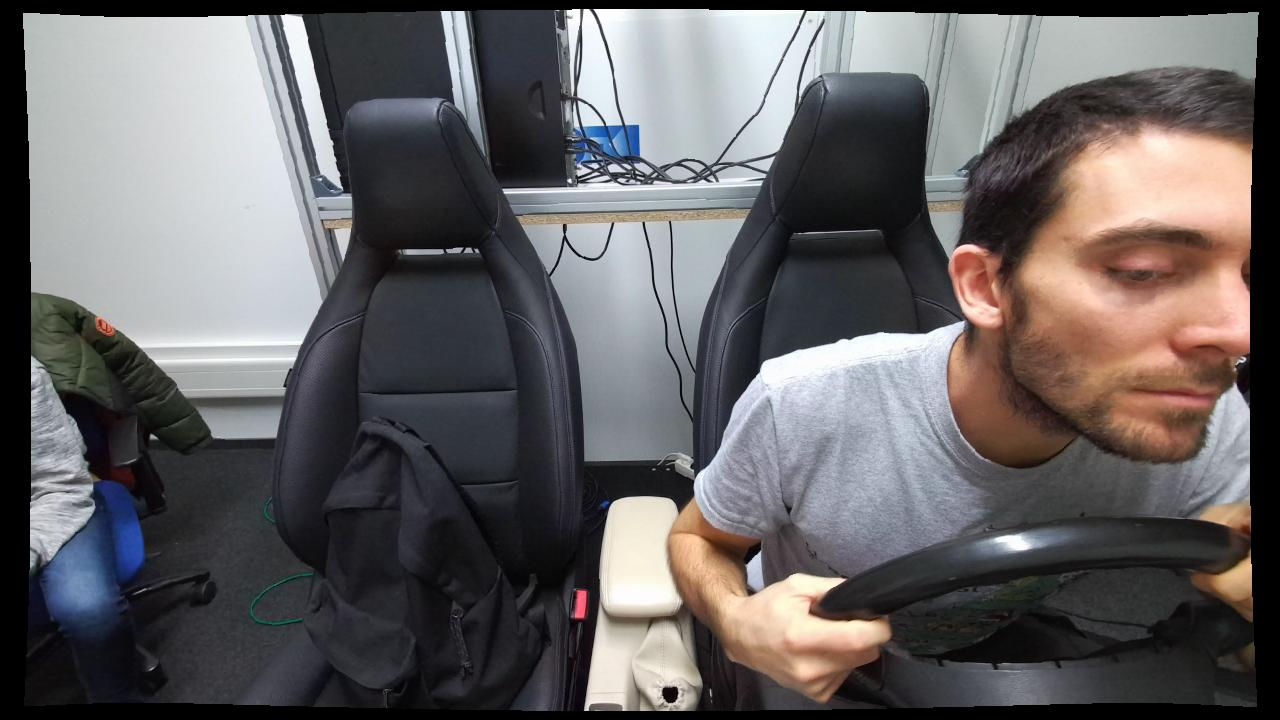Distracted: (734, 68, 1255, 711)
